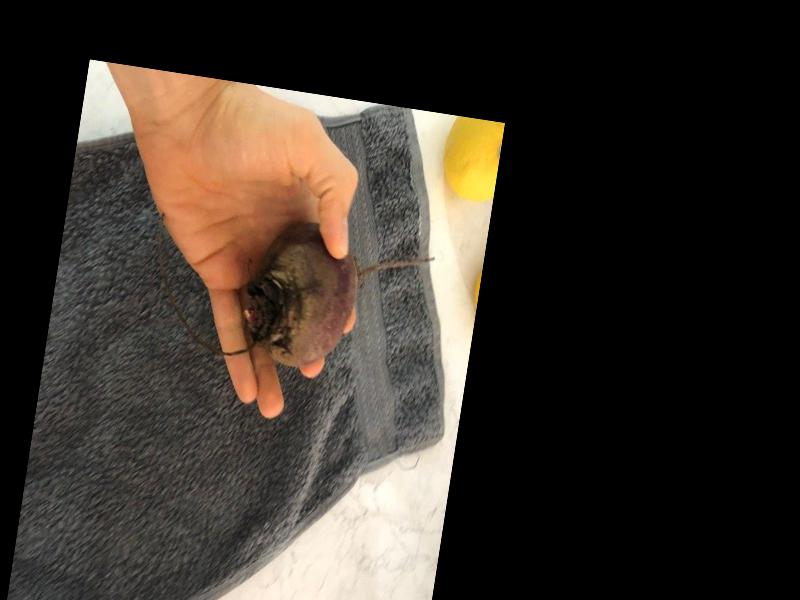Beet: (231, 213, 436, 383)
